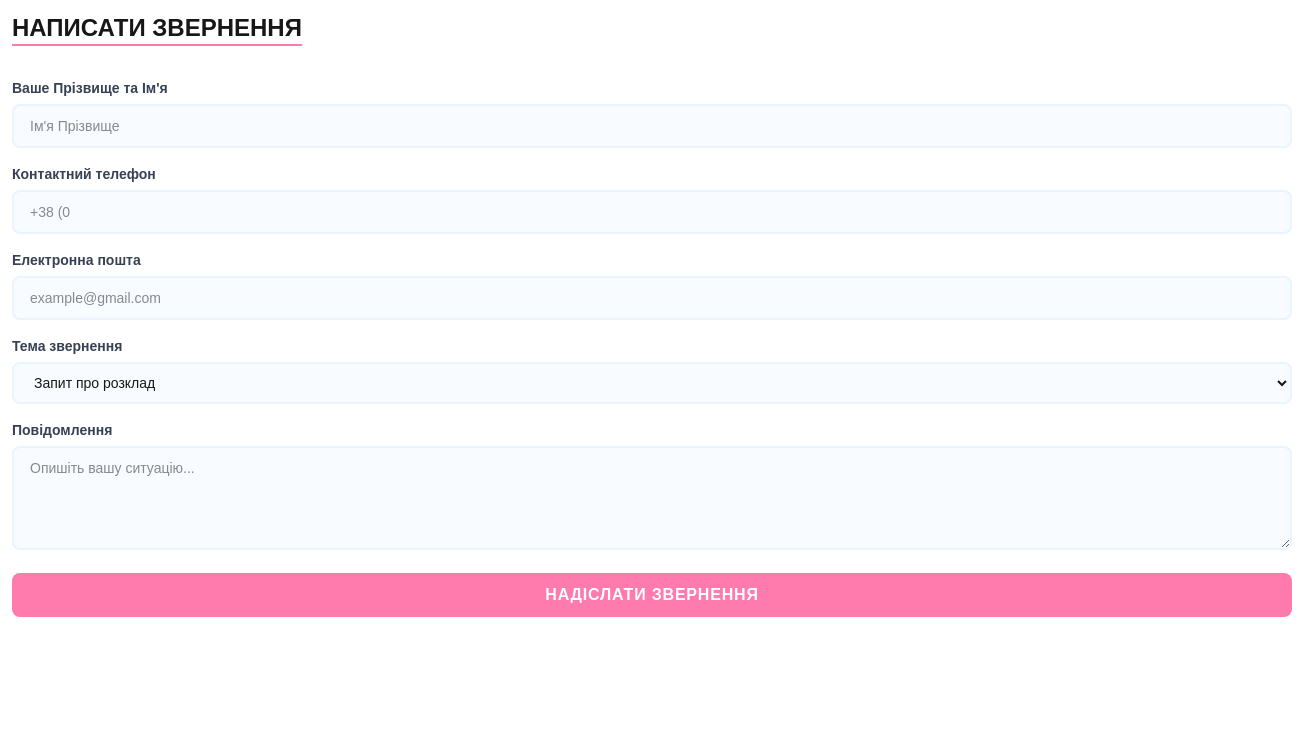
Test: ContactsForm › Integration Tests: Form Submission › показує повідомлення про помилку при невдачі
This screenshot has width=1304, height=732.
Click the button "Надіслати звернення". click: [652, 595]
box: [12,573,1292,617]
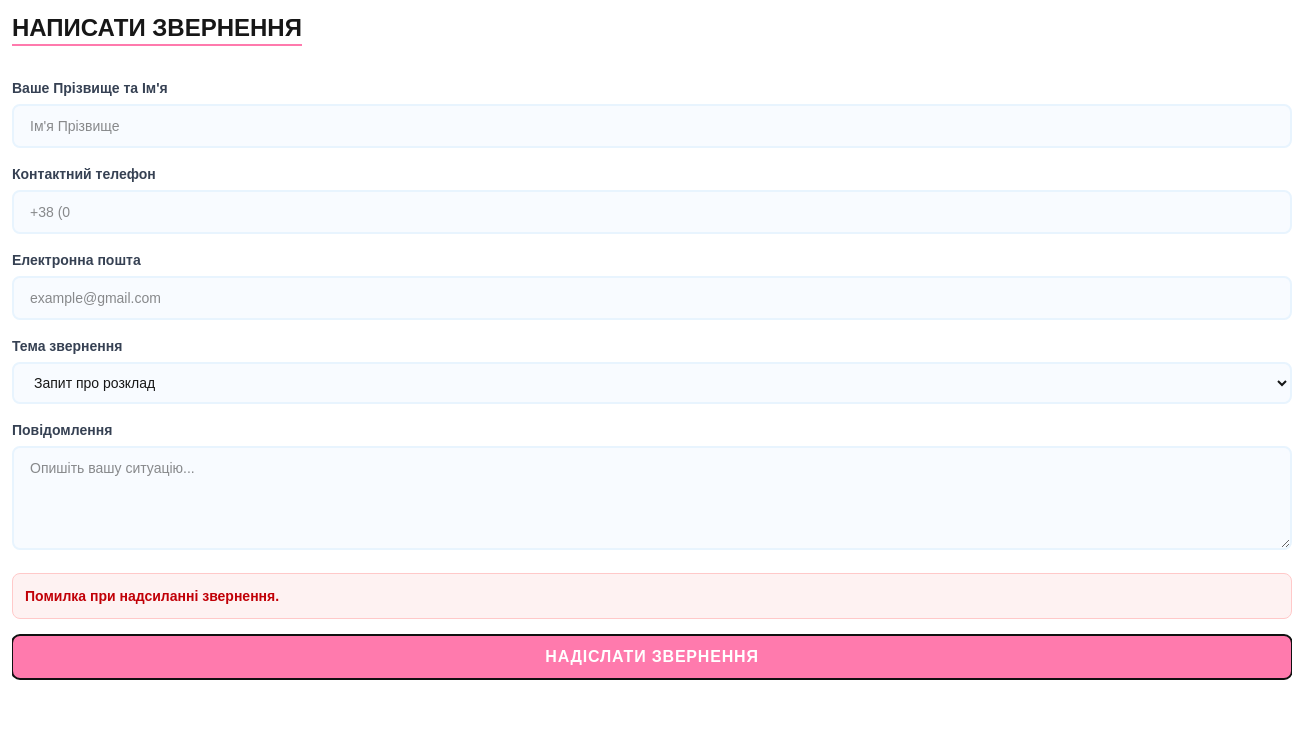
Result: the text "Помилка при надсиланні звернення." is shown at [12,573,1292,619]
